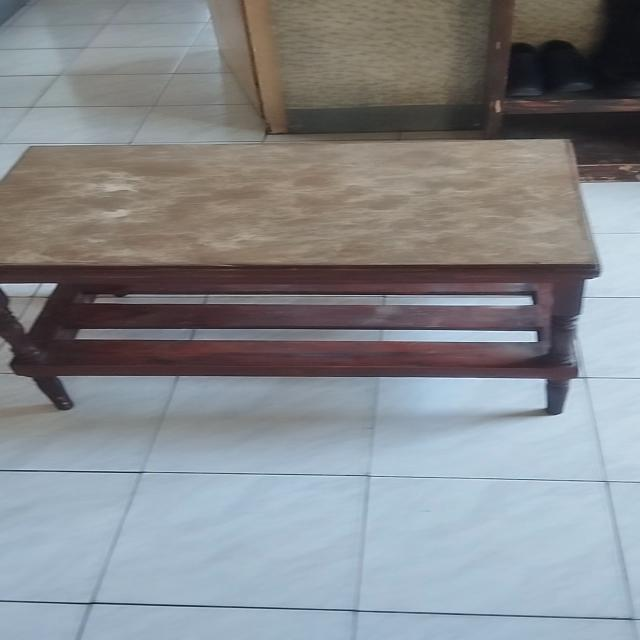table: (0, 129, 607, 427)
